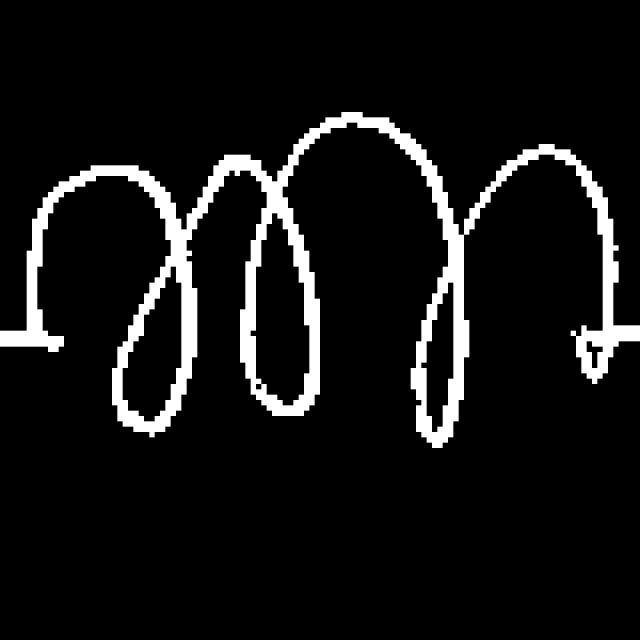inductor: (18, 94, 627, 453)
